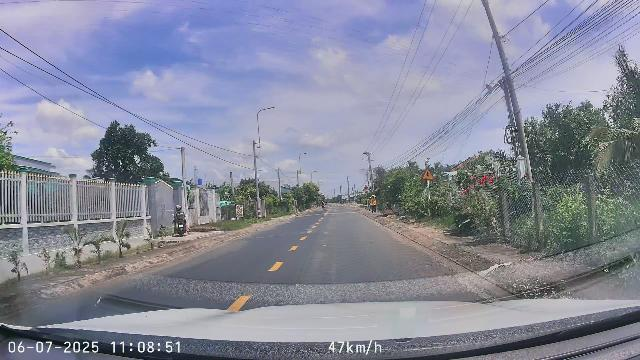224-duong-nguoi-di-bo-cat-ngang: (421, 168, 434, 180)
